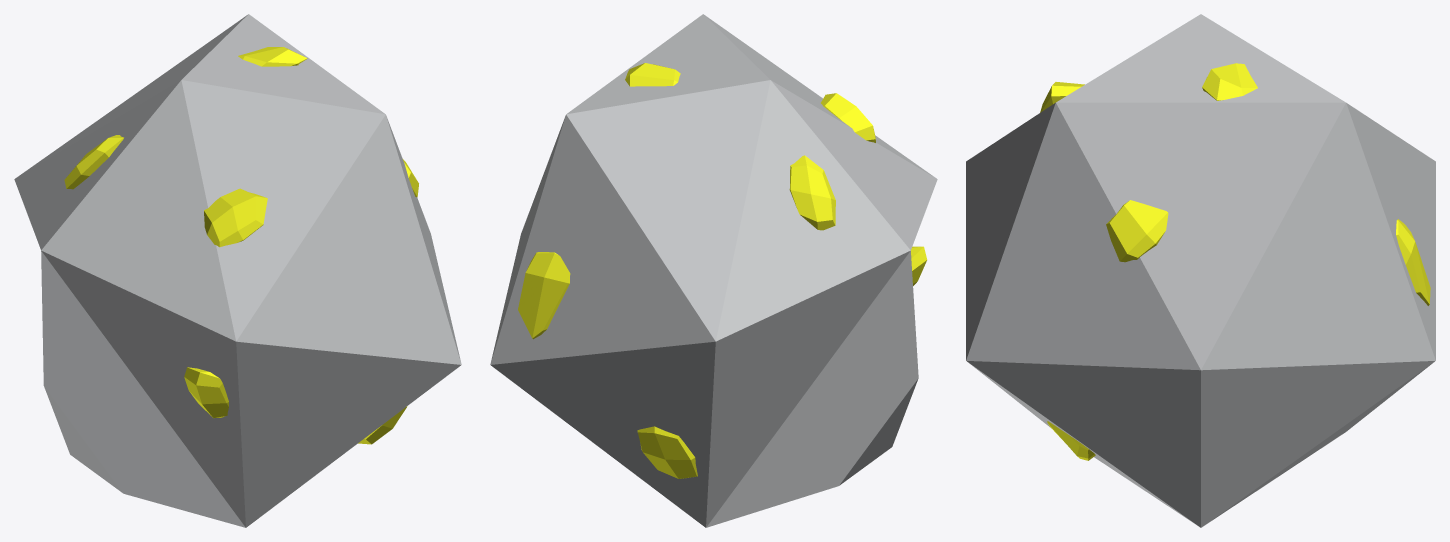
Rendered from Gold.fbx.
The picture shows the model from 3 angles, left to right: view 1: azimuth 30°, elevation 25°; view 2: azimuth 150°, elevation 25°; view 3: azimuth 270°, elevation 25°; orthographic projection. The views are drawn at different scales.
Parts seen in each view (by area): view 1: Icosphere, Cube.002; view 2: Icosphere, Cube.002; view 3: Icosphere, Cube.002.
Boxes of the visible parts, <box> form: Icosphere: <box>14,14,461,527</box>; Cube.002: <box>64,47,418,527</box>; Icosphere: <box>490,14,937,527</box>; Cube.002: <box>491,63,927,527</box>; Icosphere: <box>966,14,1435,527</box>; Cube.002: <box>1039,63,1435,524</box>.
Bounding box in the file's own units: 3.39 × 3.28 × 3.32.
